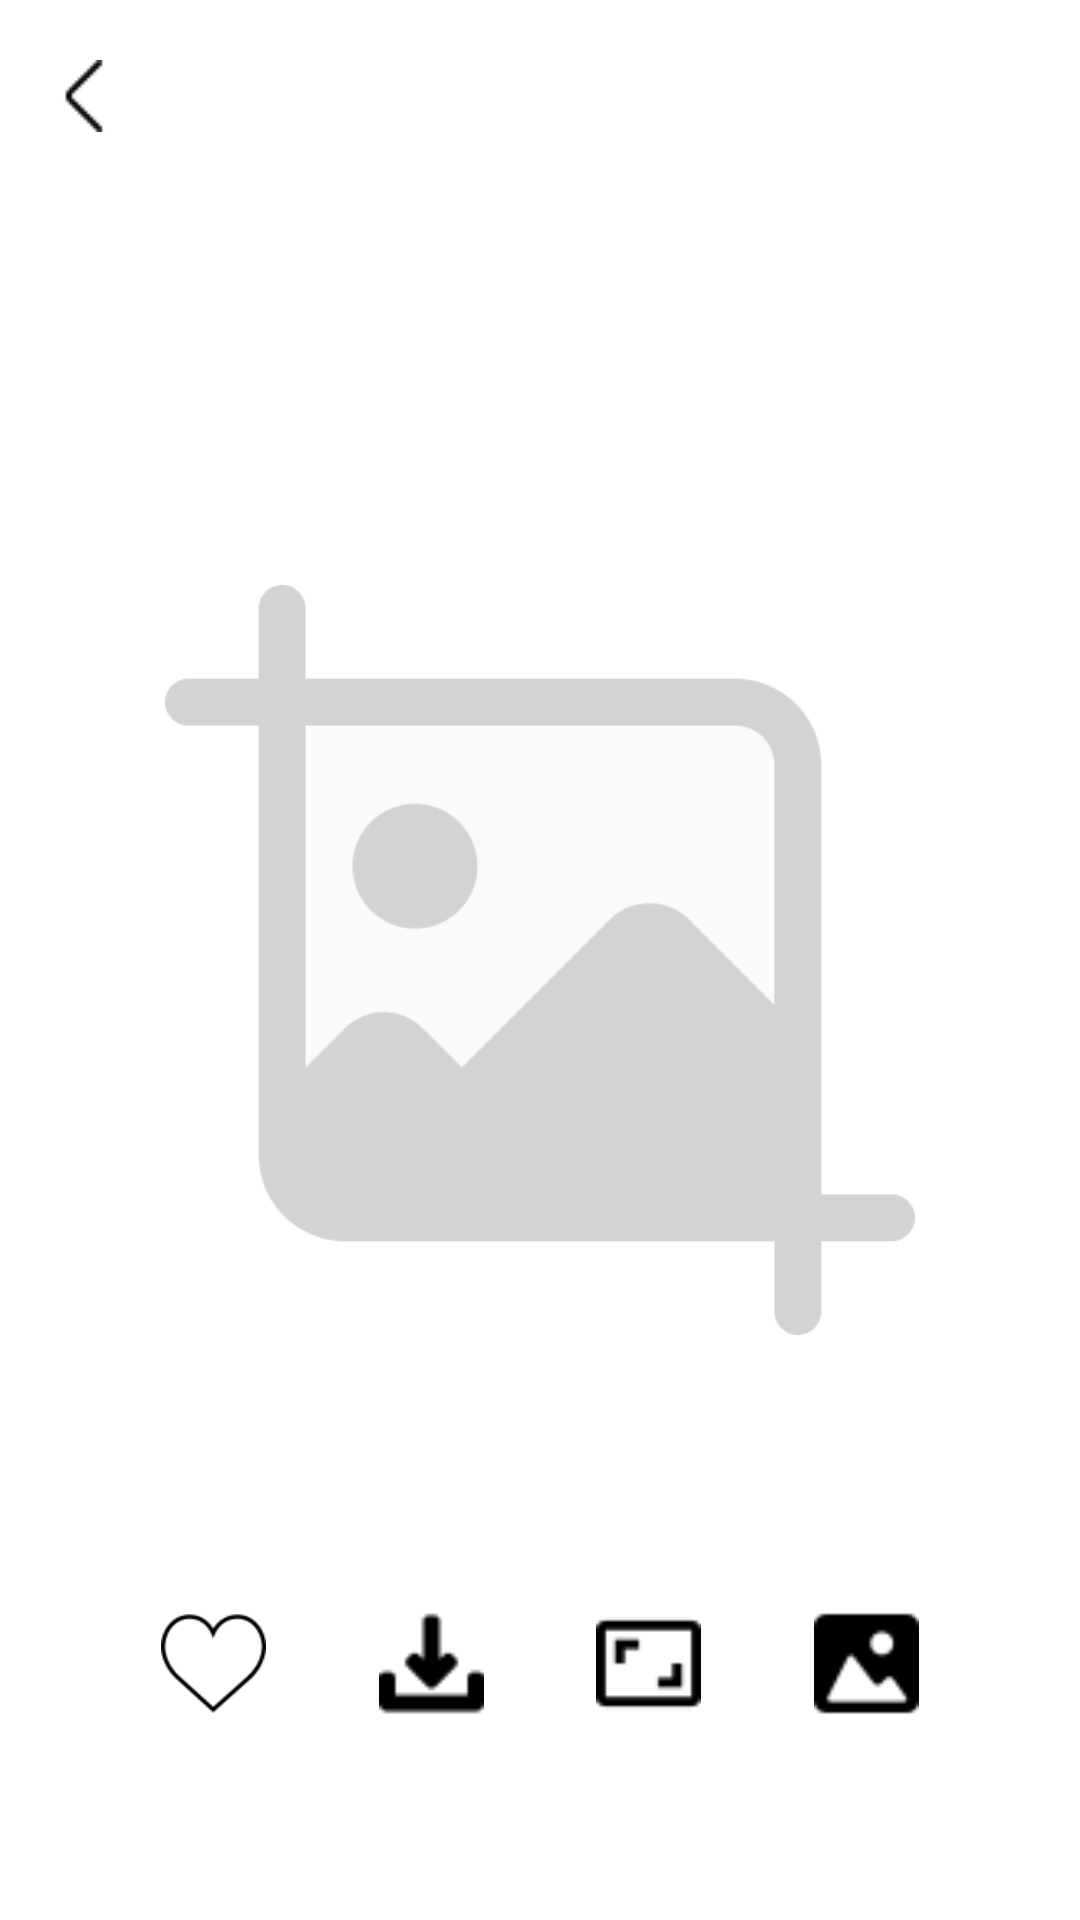

Locate icon controls on the screen. Image size 1080*1920, boxes as (x1, y1, x2, y2).
back: (65, 60, 103, 132)
do fav: (161, 1614, 266, 1713)
save: (379, 1613, 484, 1714)
set: (814, 1613, 919, 1714)
